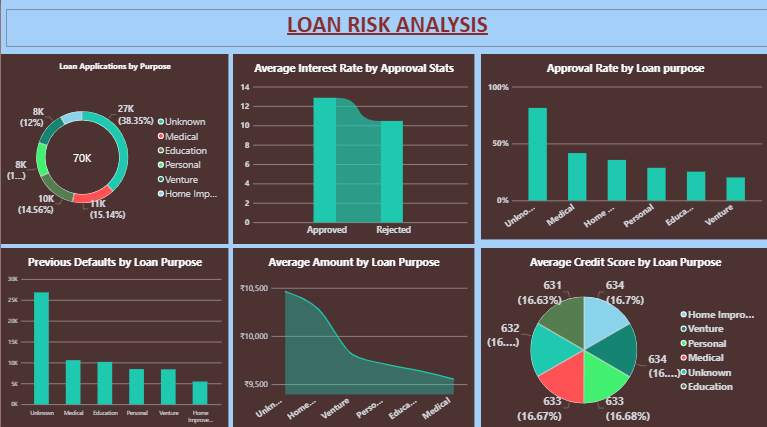

This screenshot's page, from the dashboard's own definition file:
{"tool":"powerbi","page":{"name":"Loan Risk Analysis","canvas":[1920,1080],"ordinal":2},"visuals":[{"type":"donutChart","title":"Loan Applications by Purpose","fields":{"Category":["Loan Approval Prediction.Loan Purpose"],"Y":["Loan Approval Prediction.Total Applications"]},"box":[0,135,567.5,475],"z":0},{"type":"ribbonChart","title":"Average Interest Rate by Approval Stats","fields":{"Category":["Loan Approval Prediction.loan_approval_status"],"Y":["Avg(gender.loan_int_rate)"]},"box":[580,135,602.5,475],"z":1000},{"type":"clusteredColumnChart","title":"Approval Rate by Loan purpose","fields":{"Category":["Loan Approval Prediction.Loan Purpose"],"Y":["Loan Approval Prediction.Approval Rate"]},"box":[1200,135,720,462.5],"z":2000},{"type":"columnChart","title":"Previous Defaults by Loan Purpose","fields":{"Category":["Loan Approval Prediction.Loan Purpose"],"Y":["Loan Approval Prediction.Total Applications"]},"box":[0,620,567.5,460],"z":3000},{"type":"areaChart","title":"Average Amount by Loan Purpose","fields":{"Category":["gender.Loan Purpose"],"Y":["Avg(gender.loan_amnt)"]},"box":[580,620,602.5,460],"z":4000},{"type":"pieChart","title":"Average Credit Score by Loan Purpose","fields":{"Category":["Loan Approval Prediction.Loan Purpose"],"Y":["gender.Average Credit Score"]},"box":[1200,620,720,460],"z":5000},{"type":"textbox","box":[12.5,22.5,1907.5,95],"z":5001}]}

Visuals, with their boxes in screenshot pixels (x1, y1, x2, y2), scaled from the page's 1920x1080 canvas onto the 767x427 screenshot:
"Loan Applications by Purpose" donutChart: box=[0, 53, 227, 241]
"Average Interest Rate by Approval Stats" ribbonChart: box=[232, 53, 472, 241]
"Approval Rate by Loan purpose" clusteredColumnChart: box=[479, 53, 766, 236]
"Previous Defaults by Loan Purpose" columnChart: box=[0, 245, 227, 426]
"Average Amount by Loan Purpose" areaChart: box=[232, 245, 472, 426]
"Average Credit Score by Loan Purpose" pieChart: box=[479, 245, 766, 426]
textbox: box=[5, 9, 766, 46]
